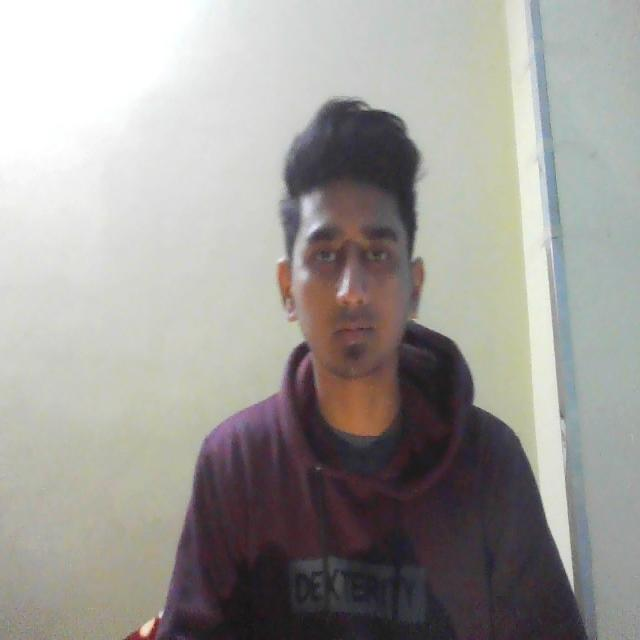real: (283, 125, 433, 408)
